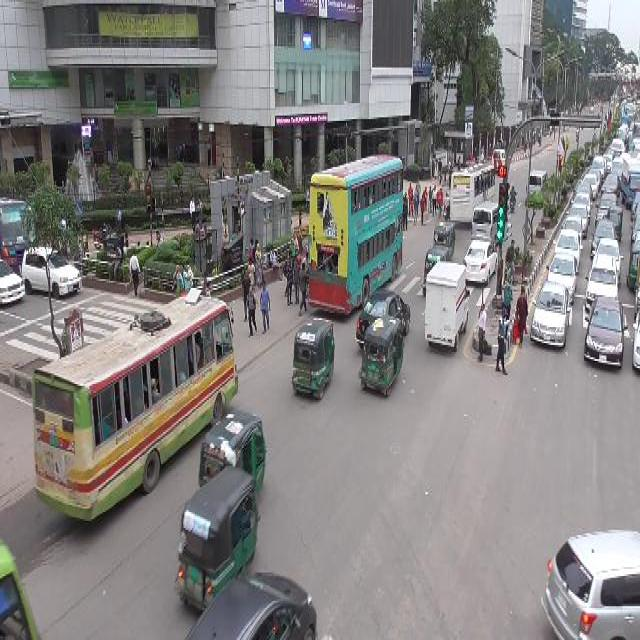bus: (30, 284, 239, 534), (306, 150, 406, 318), (448, 160, 495, 222)
car: (537, 522, 638, 636), (19, 240, 84, 300), (582, 290, 627, 375), (527, 279, 571, 354)
motorcycle: (172, 462, 258, 615), (195, 406, 269, 500), (288, 313, 335, 403), (355, 316, 405, 400), (431, 217, 456, 258), (507, 182, 516, 212)
truck: (423, 260, 469, 354)
